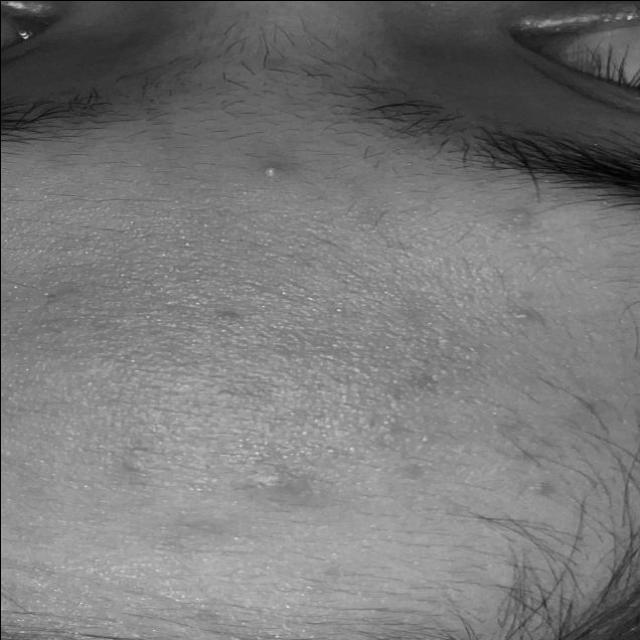papule: (11, 421, 354, 573)
pustule: (254, 153, 291, 188), (501, 302, 541, 331)
